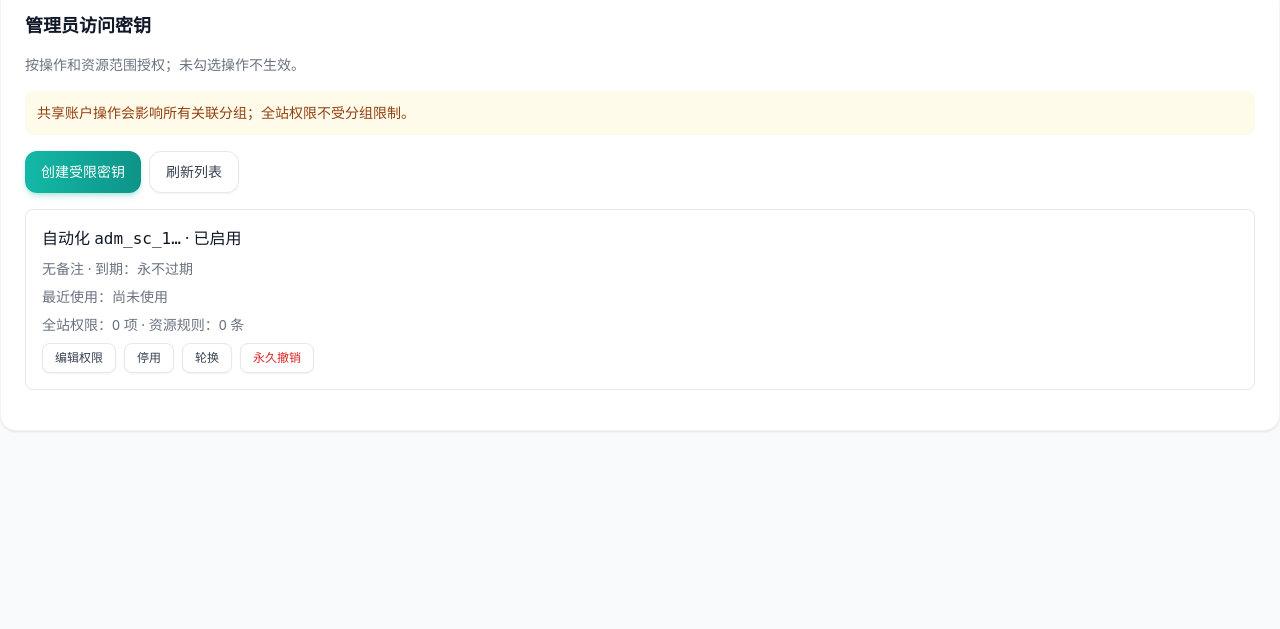
Test: 管理员受限密钥配置 › 停用失败保持原状态，成功后更新状态；轮换及撤销均等待服务器确认
Click the button "停用" at (149, 358), box [124,343,174,373]
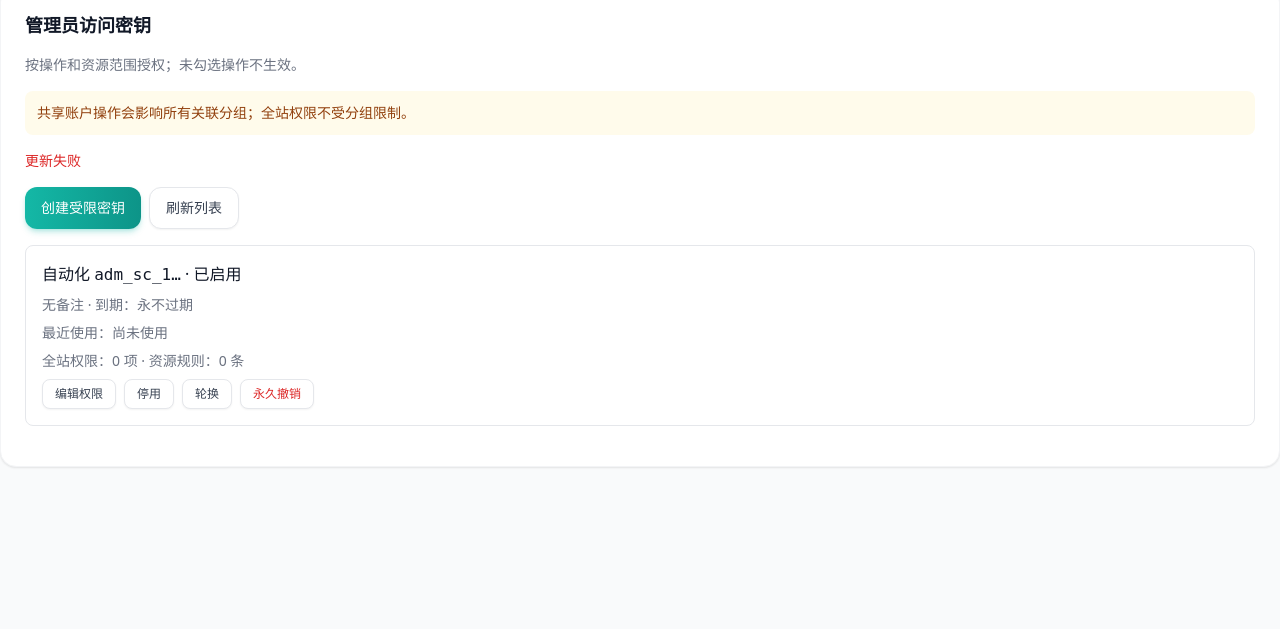
Check: the text "已启用" is shown, box [181,263,242,285]
Check: the text "更新失败" is shown, box [25,151,81,170]
Click the button "停用" at (149, 394), box [124,379,174,409]
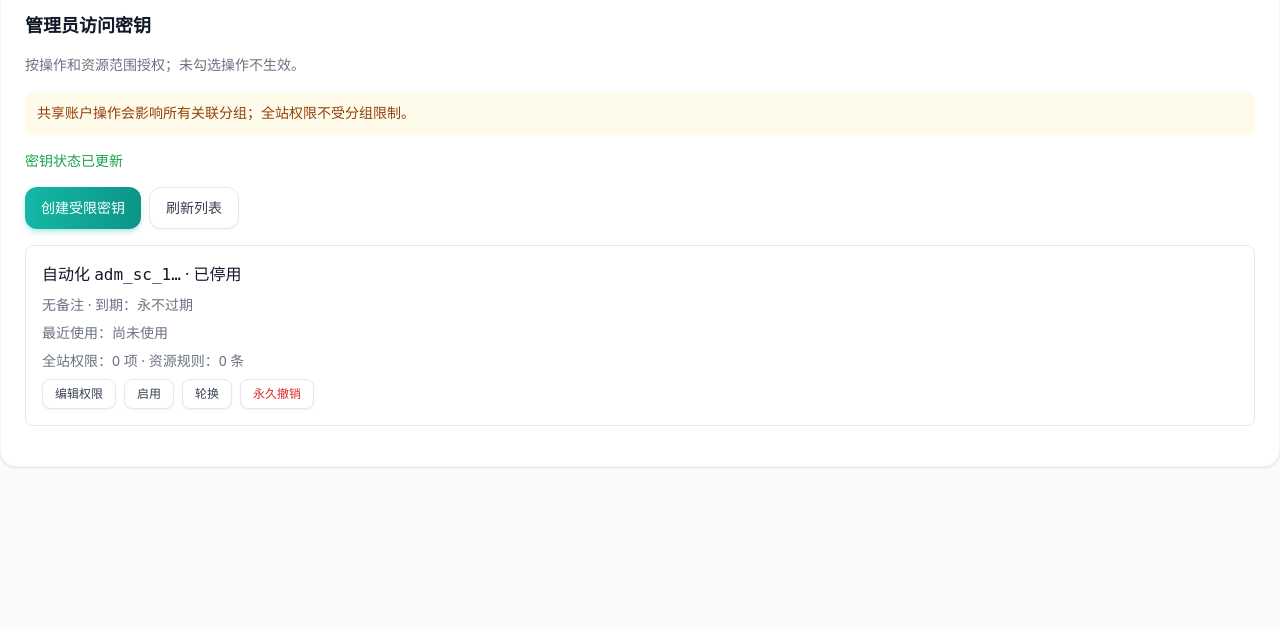
Check: the text "已停用" is shown, box [181,263,242,285]
Click the button "轮换" at (207, 394), box [182,379,232,409]
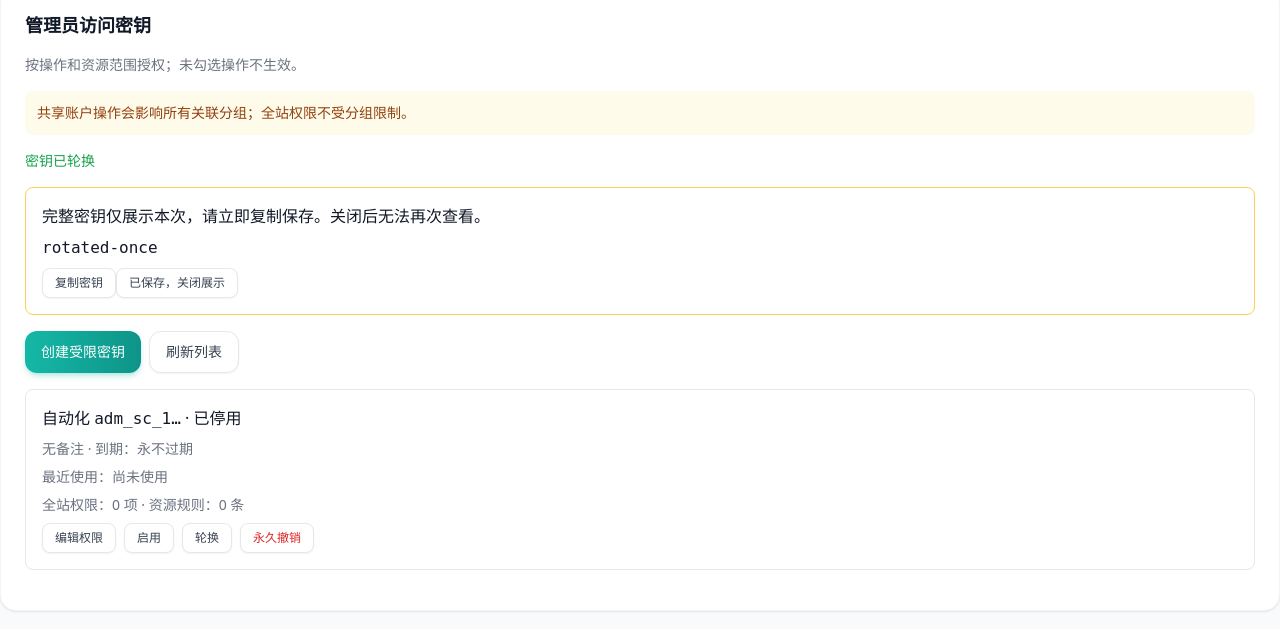
Check: the text "rotated-once" is shown, box [42,238,158,257]
Click the button "永久撤销" at (277, 538), box [240,523,314,553]
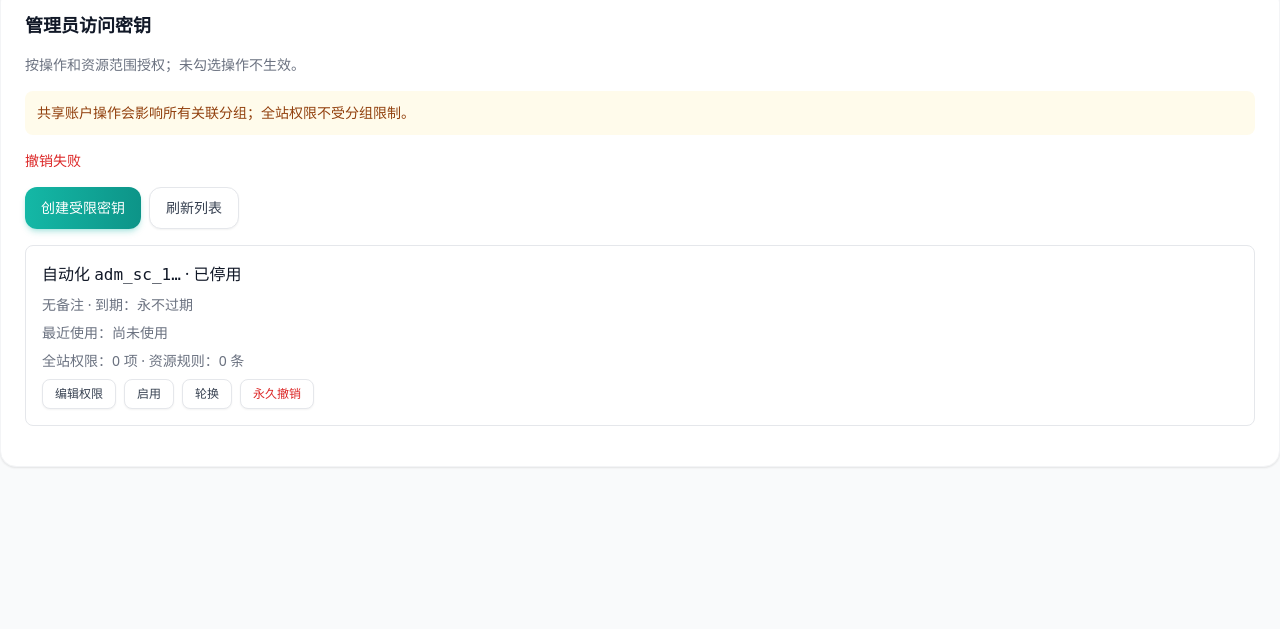
Check: the text "自动化" is shown, box [42,263,94,285]
Check: the text "撤销失败" is shown, box [25,151,81,170]
Click the button "永久撤销" at (277, 394), box [240,379,314,409]
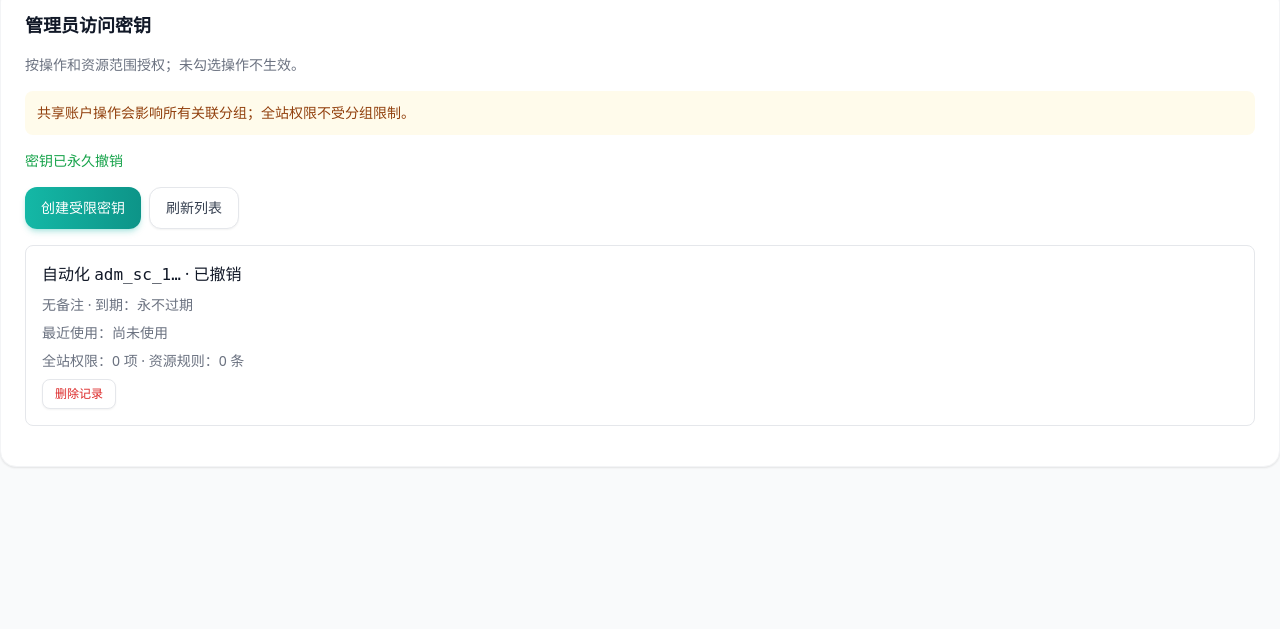
Check: the text "adm_sc_1" is shown, box [94,265,181,284]
Check: the text "已撤销" is shown, box [181,263,242,285]
